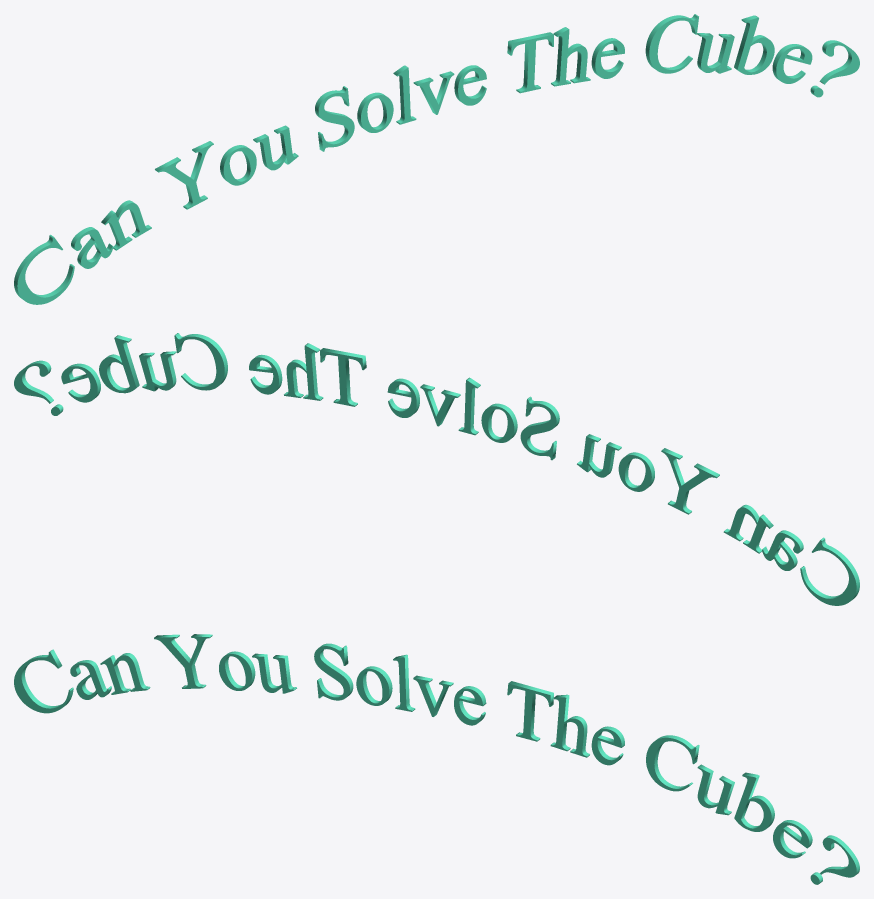
File: letters.glb
The picture shows the model from 3 angles, top to bottom: view 1: azimuth 30°, elevation 25°; view 2: azimuth 150°, elevation 25°; view 3: azimuth 330°, elevation 25°; orthographic projection. The views are drawn at different scales.
Visible parts, largest first — view 1: Text; view 2: Text; view 3: Text.
Part boxes in pixels (x1=…): Text: x1=14, y1=14, x2=859, y2=304; Text: x1=14, y1=333, x2=859, y2=605; Text: x1=14, y1=634, x2=859, y2=884.
Bounding box in the file's own units: 8.5 × 1.37 × 0.227.
